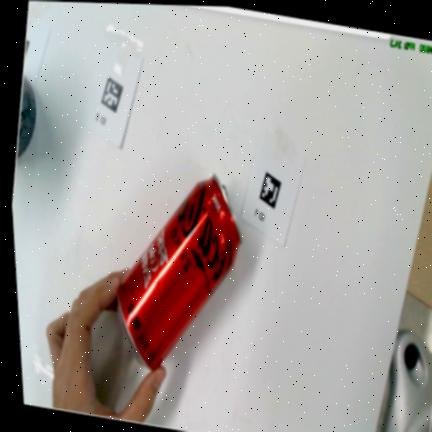can_coke_zero: (118, 173, 241, 369)
